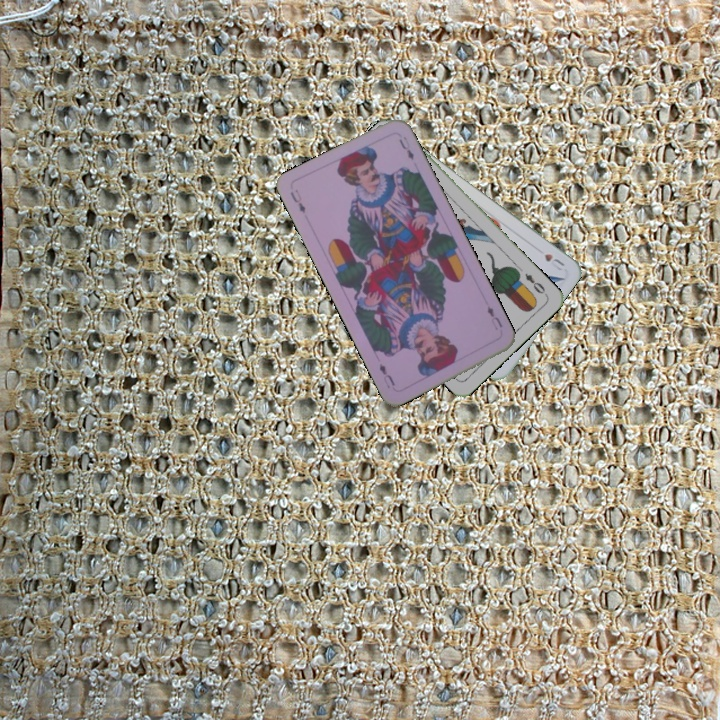EO: (521, 269, 548, 297)
EU: (483, 302, 505, 333), (286, 185, 308, 216)
HU: (540, 249, 567, 273)
